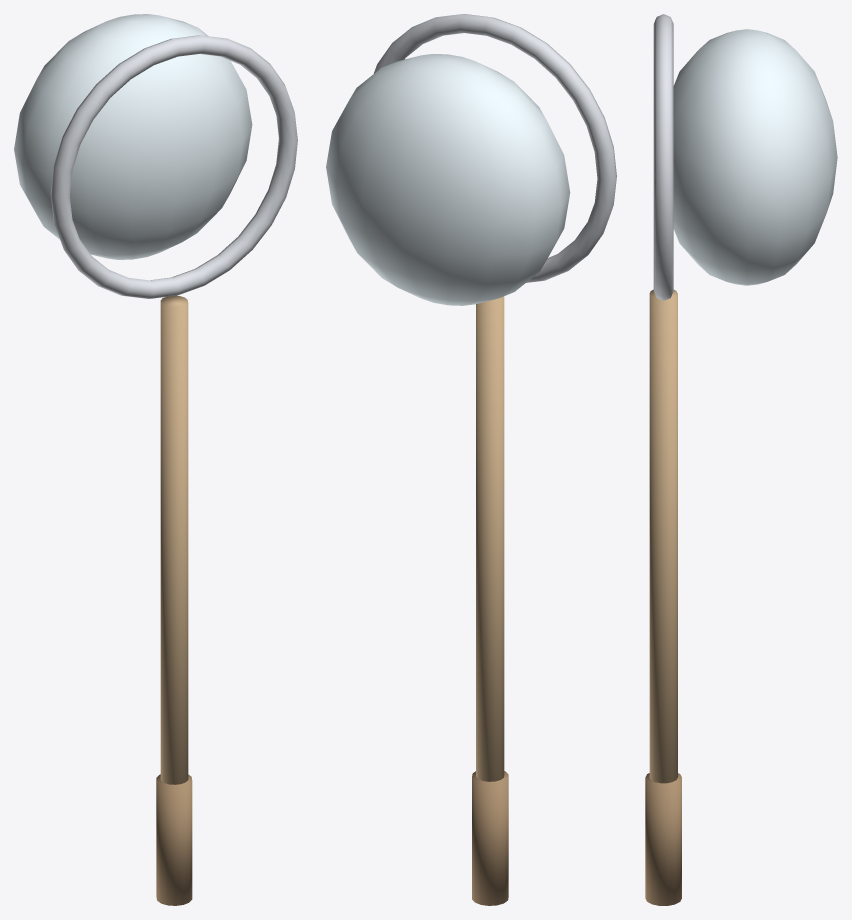
Rendered from VTool_Net.fbx.
3 renders of one model, left to right at view 1: azimuth 30°, elevation 25°; view 2: azimuth 150°, elevation 25°; view 3: azimuth 270°, elevation 25°, orthographic. The views are drawn at different scales.
Parts seen in each view (by area): view 1: VTool_Net; view 2: VTool_Net; view 3: VTool_Net.
Boxes of the visible parts, x1,y1,x2,y2 form: VTool_Net: (14,14,297,905); VTool_Net: (326,14,616,905); VTool_Net: (645,14,837,905).
Size of the model in its own units: 0.344 by 1.15 by 0.2305.
